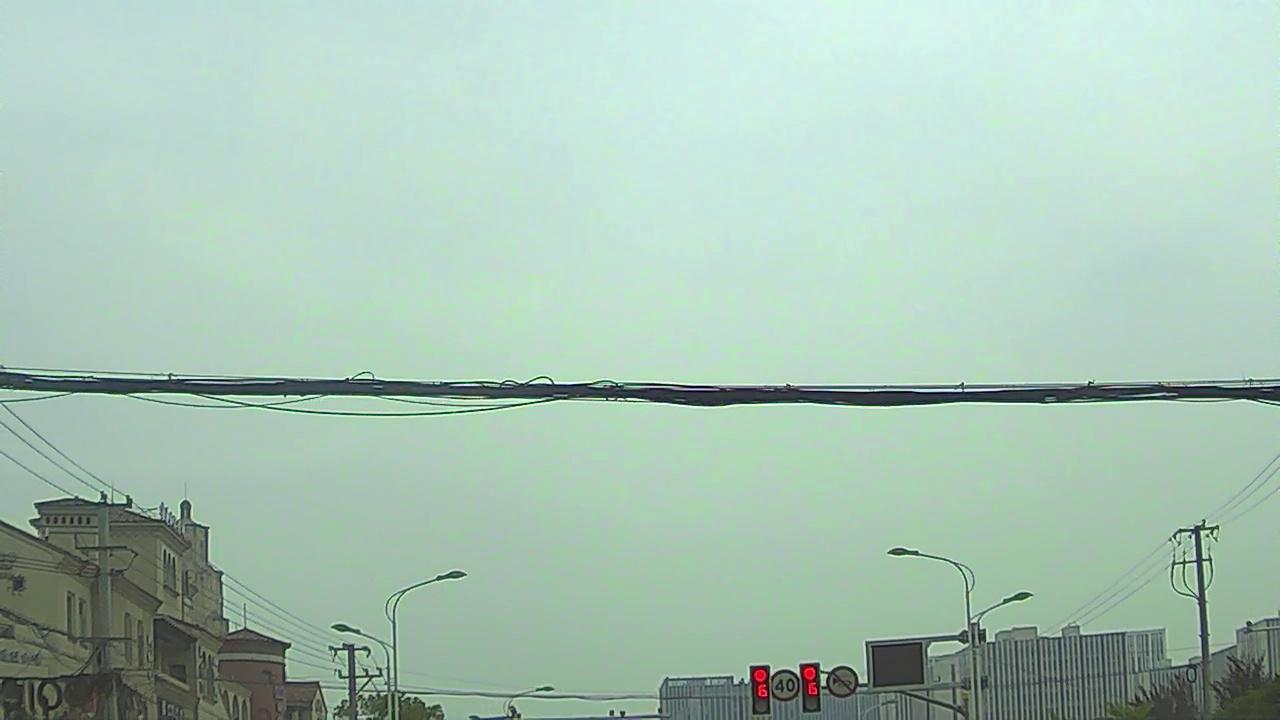traffic_light: (748, 666, 773, 715), (803, 665, 821, 709)
